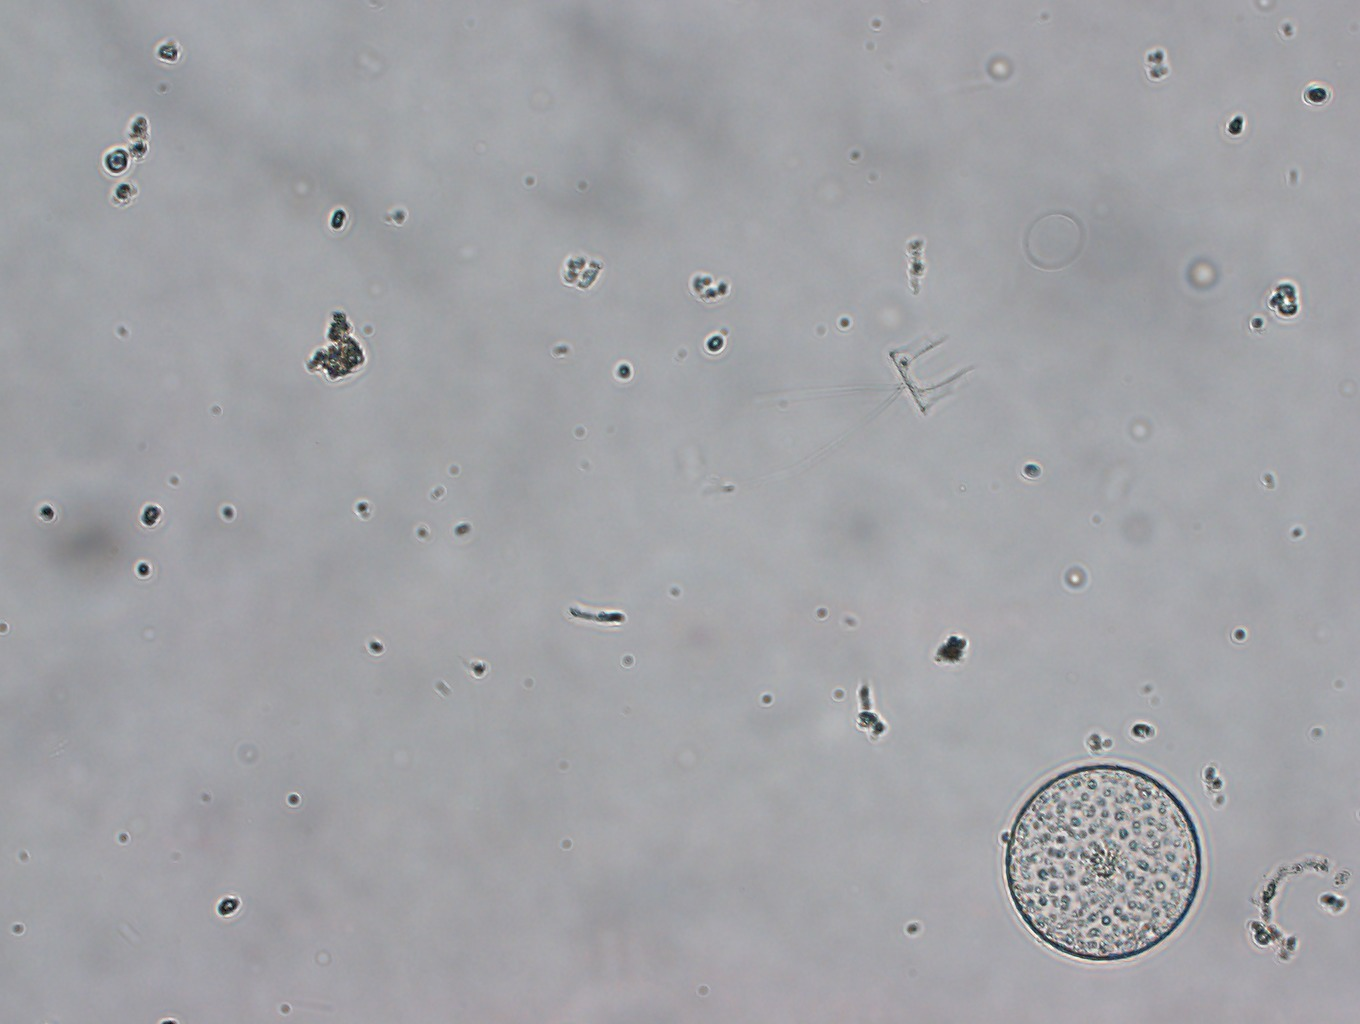coscinodiscus: (997, 750, 1209, 965)
